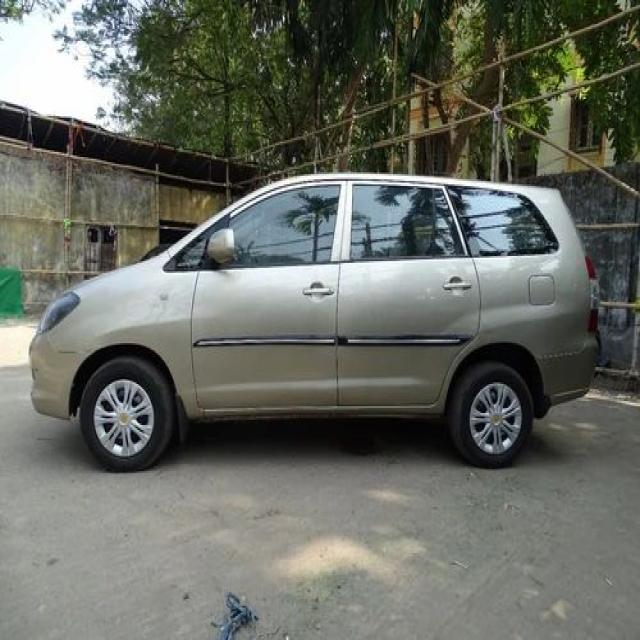light_vehicle: (28, 172, 602, 473)
